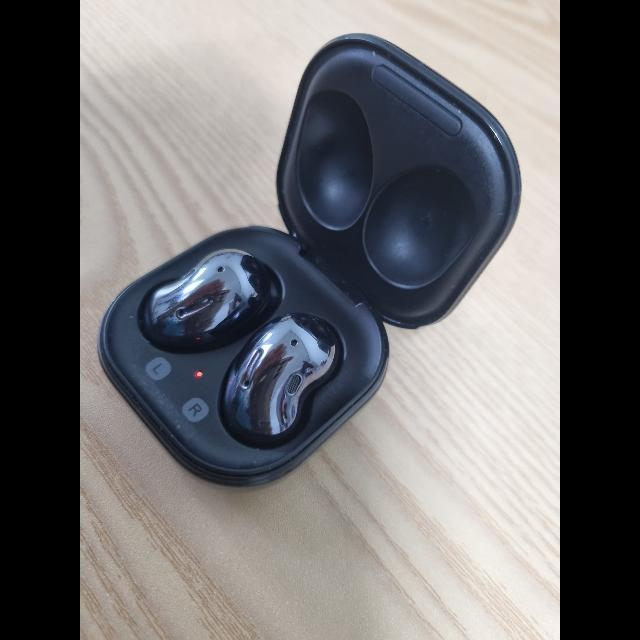buds_live: (96, 31, 526, 492)
